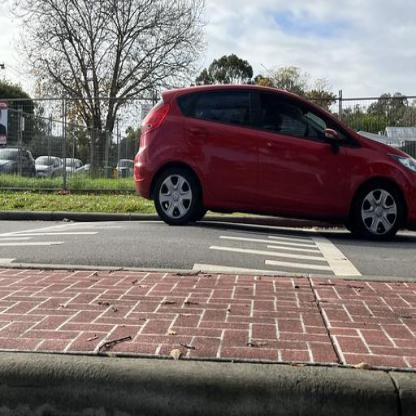Tire: (354, 180, 402, 241), (153, 166, 199, 225)
